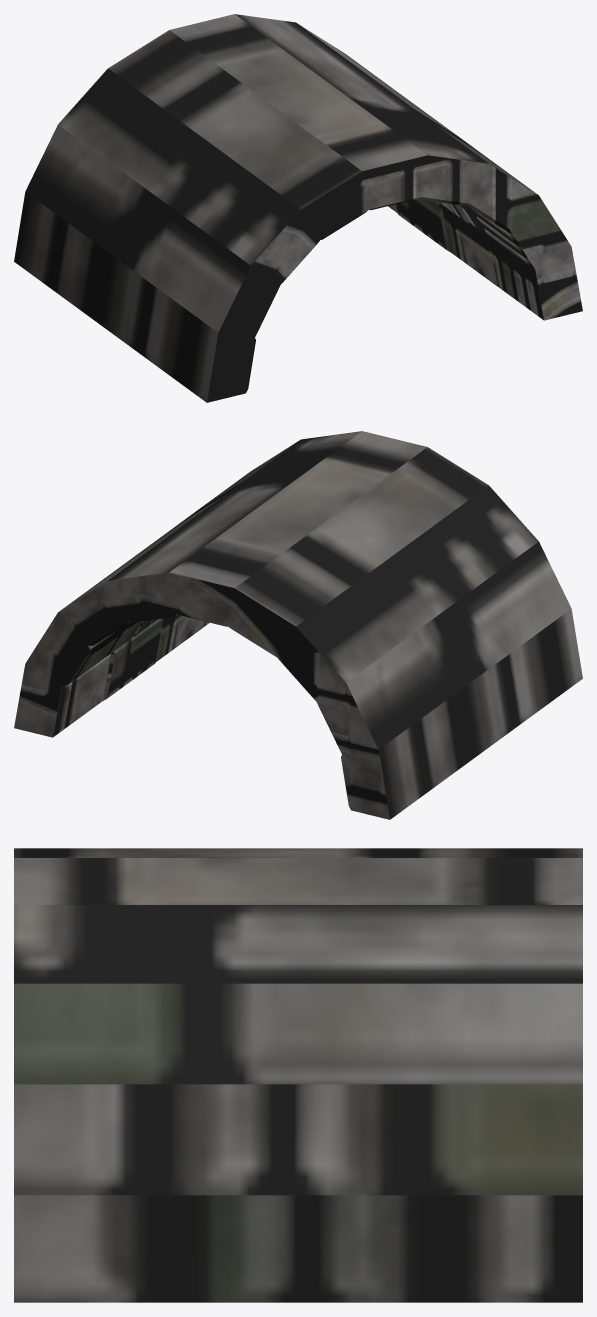
File: voute_couloir.fbx
The picture shows the model from 3 angles, top to bottom: view 1: azimuth 30°, elevation 25°; view 2: azimuth 150°, elevation 25°; view 3: azimuth 270°, elevation 25°; orthographic projection. The views are drawn at different scales.
Visible parts, largest first — view 1: voute_couloir; view 2: voute_couloir; view 3: voute_couloir.
Part boxes in pixels (left/top/right/bottom): voute_couloir: left=14, top=14, right=582, bottom=402; voute_couloir: left=14, top=431, right=582, bottom=819; voute_couloir: left=14, top=848, right=582, bottom=1302.
Bounding box in the file's own units: 4.5 × 2.22 × 4.
Materials: 1 (1 with a texture image).
